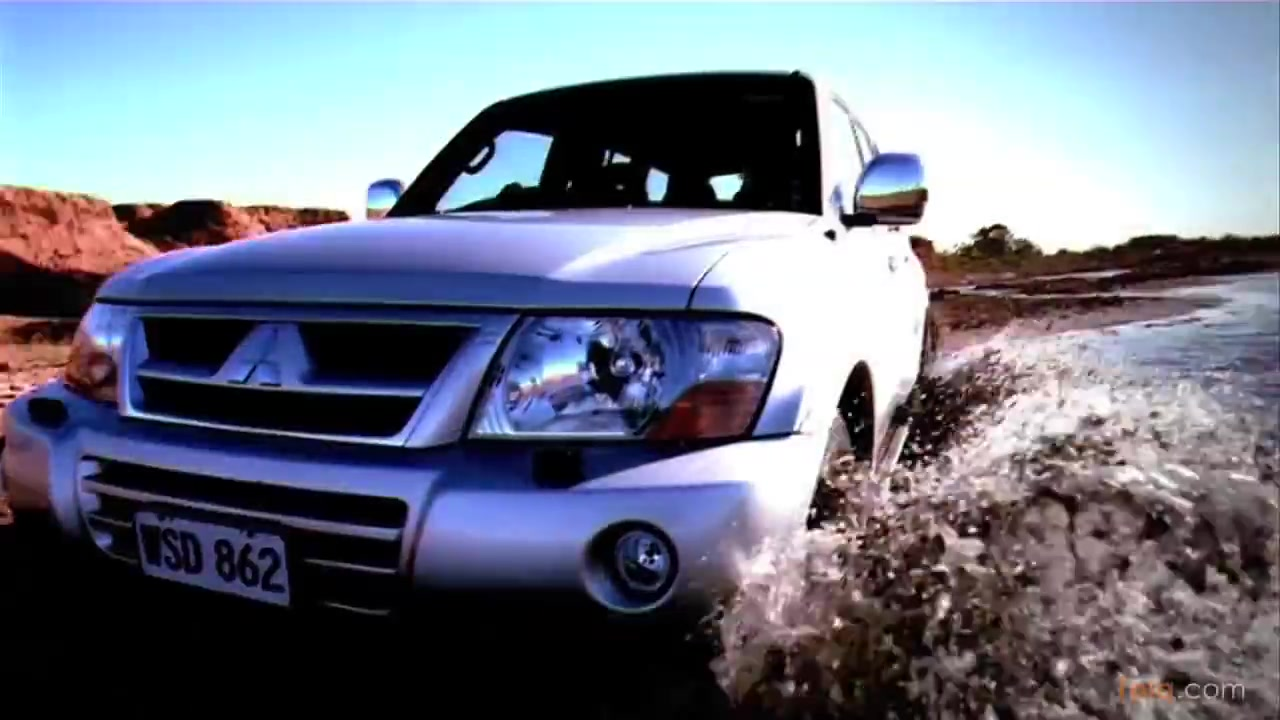car: (1, 66, 936, 667)
